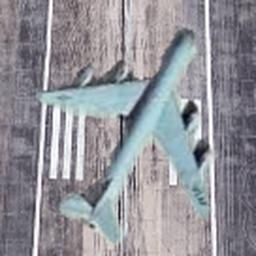Airplane: (33, 26, 214, 246)
